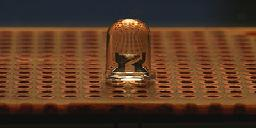LED: (102, 17, 157, 87)
